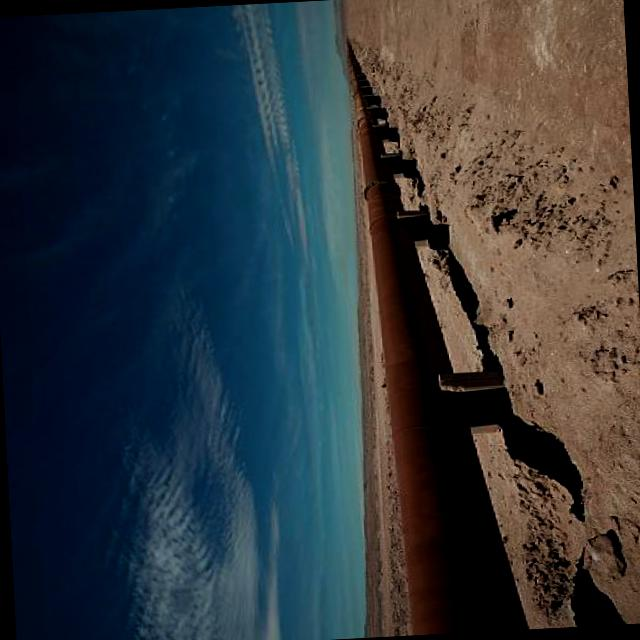gas: (350, 50, 528, 636)
